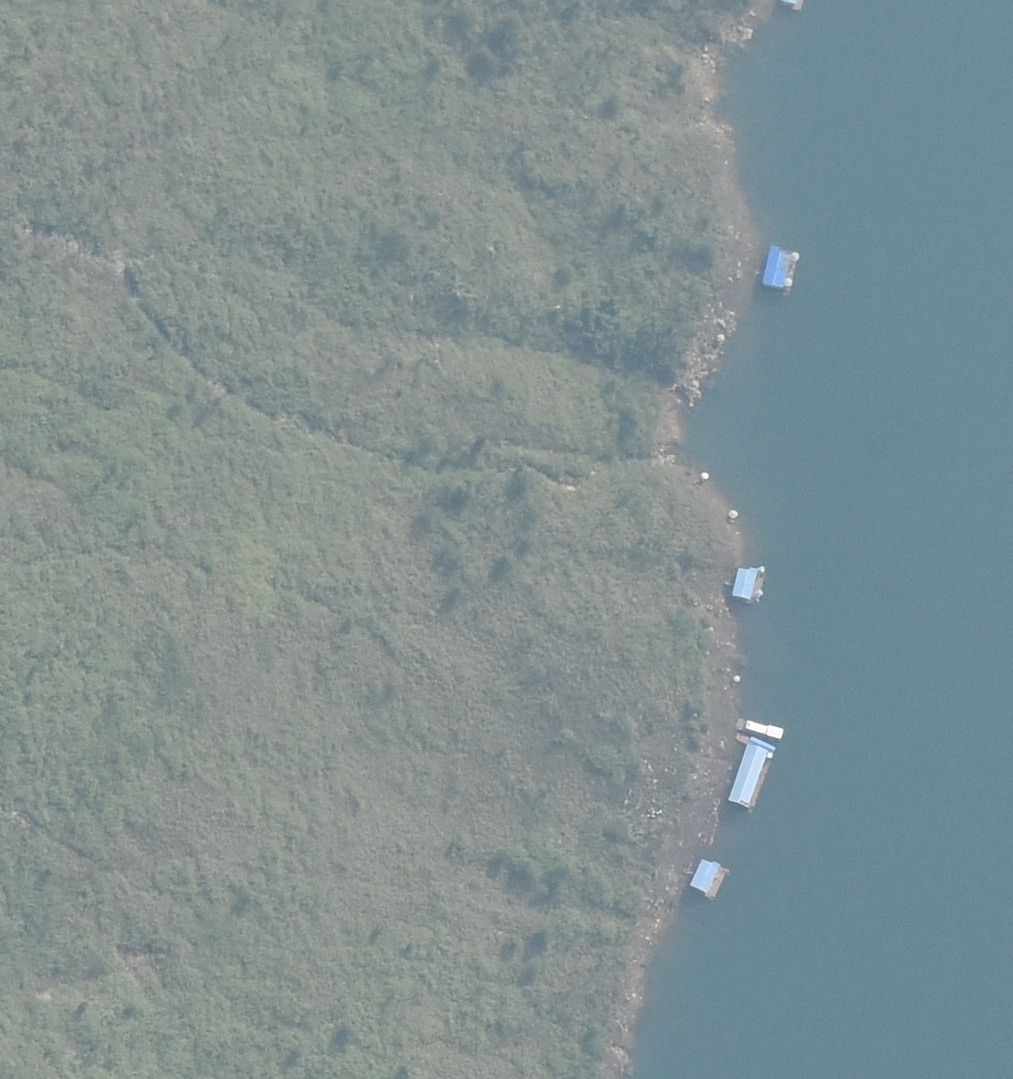prefabricated-house: (721, 741, 774, 808), (760, 245, 797, 289), (691, 857, 729, 899), (731, 566, 760, 603)
ship: (737, 715, 785, 742)
